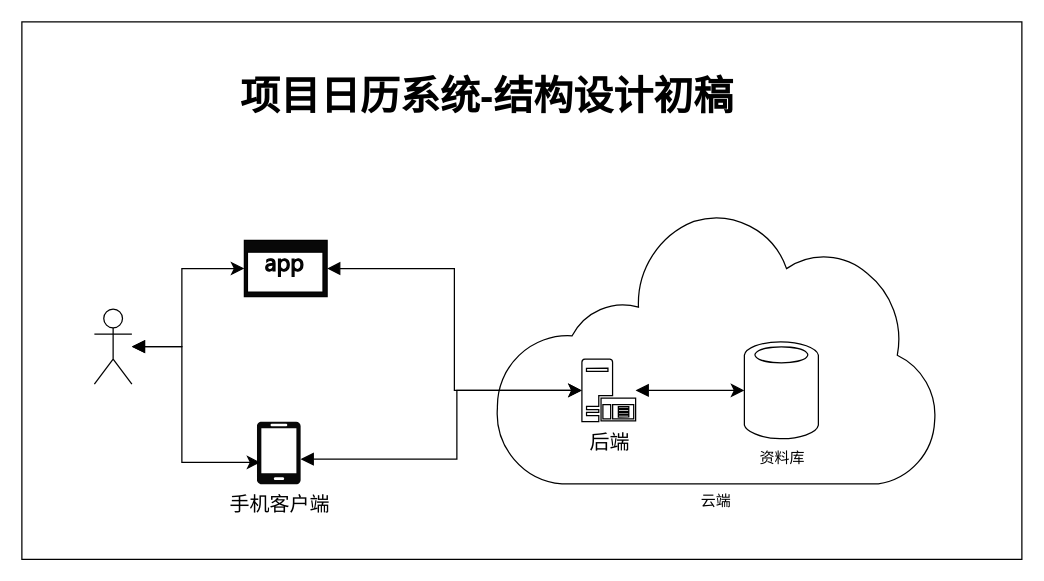
The diagram is 1044 pixels wide and 581 high, and some of its shapes have lost their labels. Here are the shapes that lost their labels. From the top down, the centre of each, then its label:
the point at 285,268: Windows客户端
the point at 112,346: 用户
